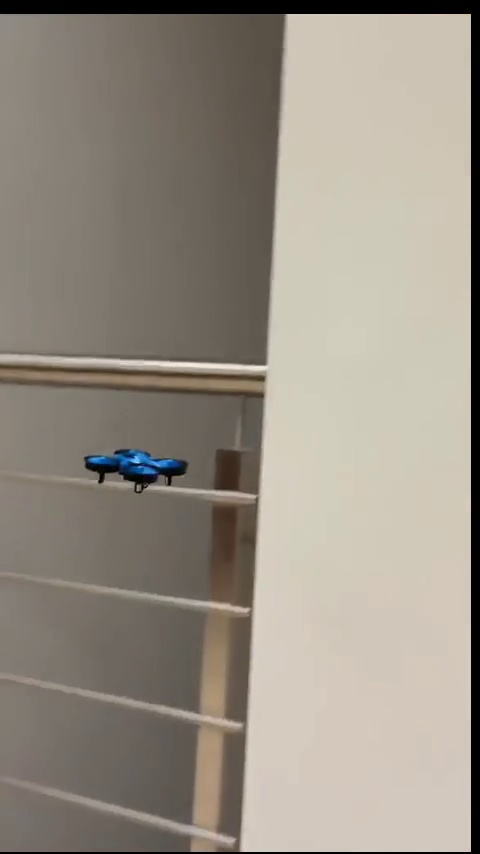drone: (87, 444, 187, 491)
